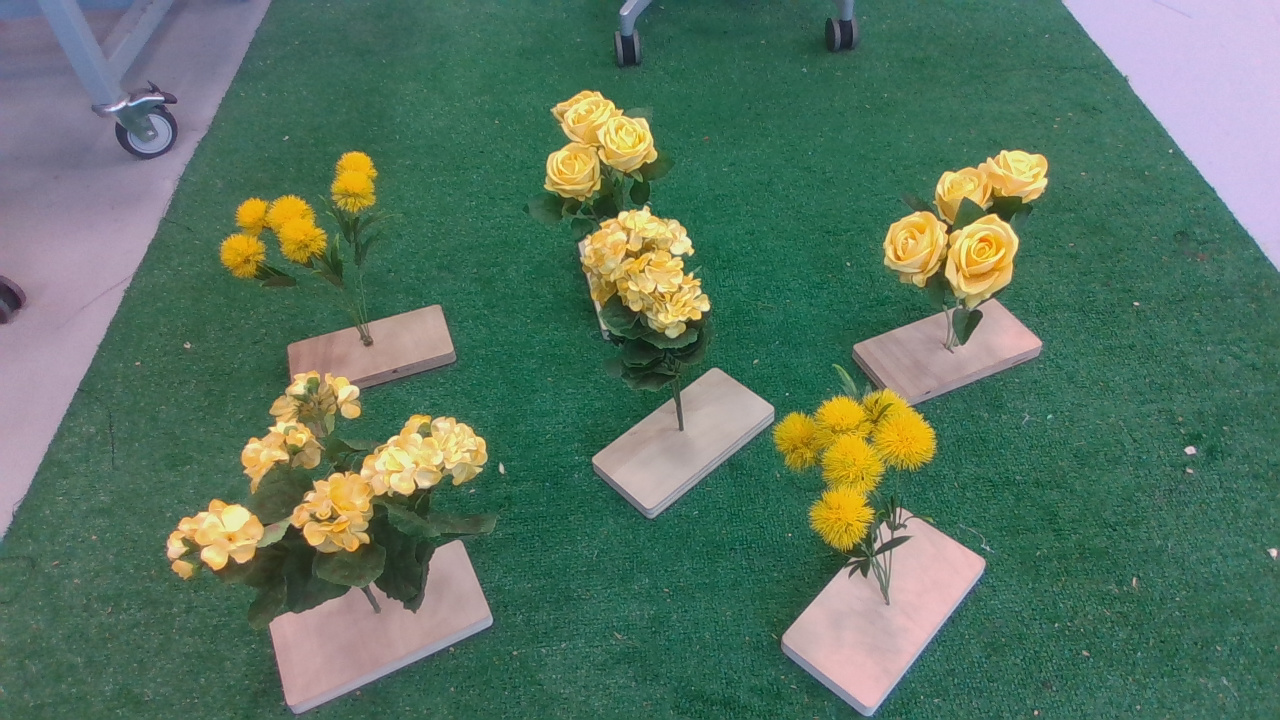dandelion: (770, 388, 953, 589), (218, 147, 408, 299)
geranium: (160, 372, 502, 625), (578, 216, 722, 403)
rose: (880, 147, 1066, 353), (527, 90, 679, 211)
